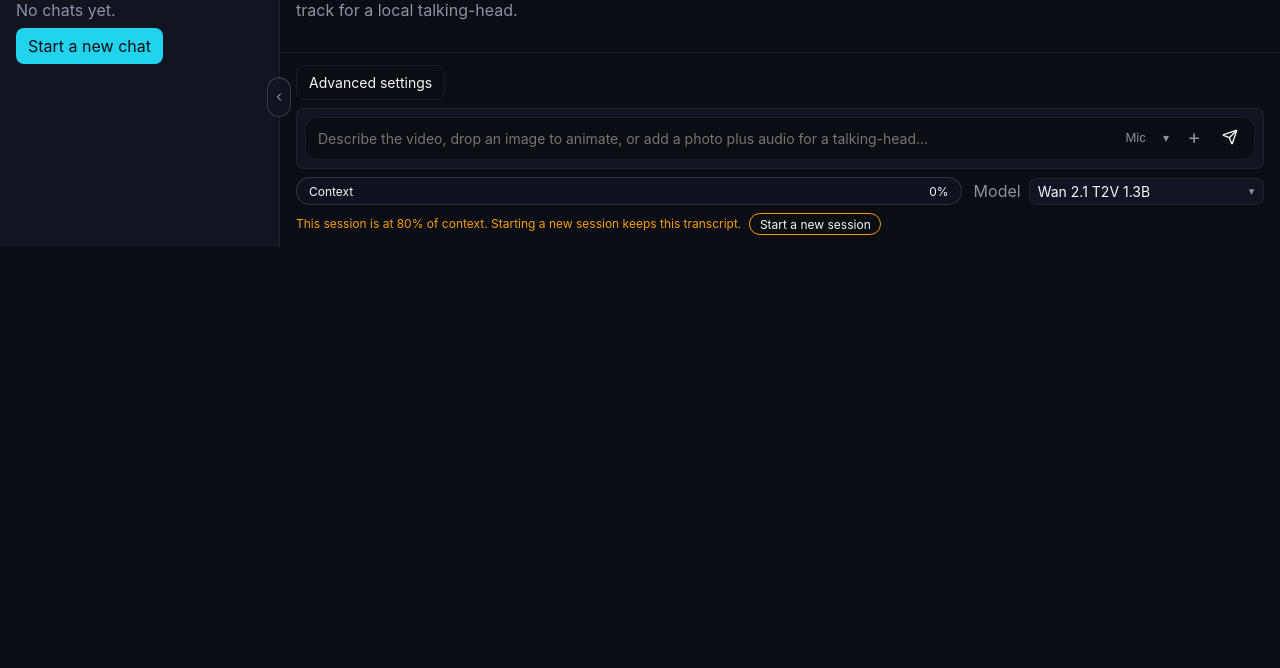
Scenario: VideoLabPage (chat) › shows enhancement children in the generation queue bar
Click the button with test id "video-advanced-settings" at x=371, y=82, box top-left (296, 65), bottom-right (445, 100)
Wait 40 ms
(page scrolled)
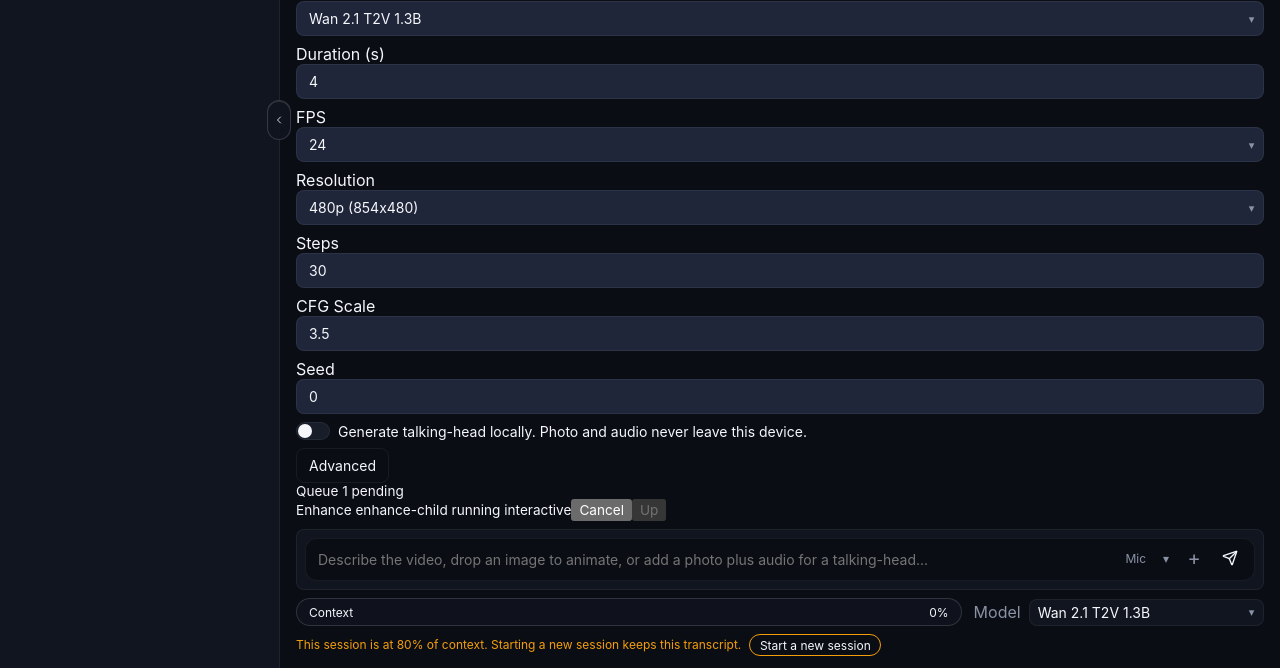
Check: the list item with test id "generation-queue-item-enhance-child" shows "Enhance enhance-child", box top-left (296, 499), bottom-right (666, 521)
Check: the button with aria-label "Cancel enhancement enhance-child" is shown, box top-left (571, 499), bottom-right (632, 521)
